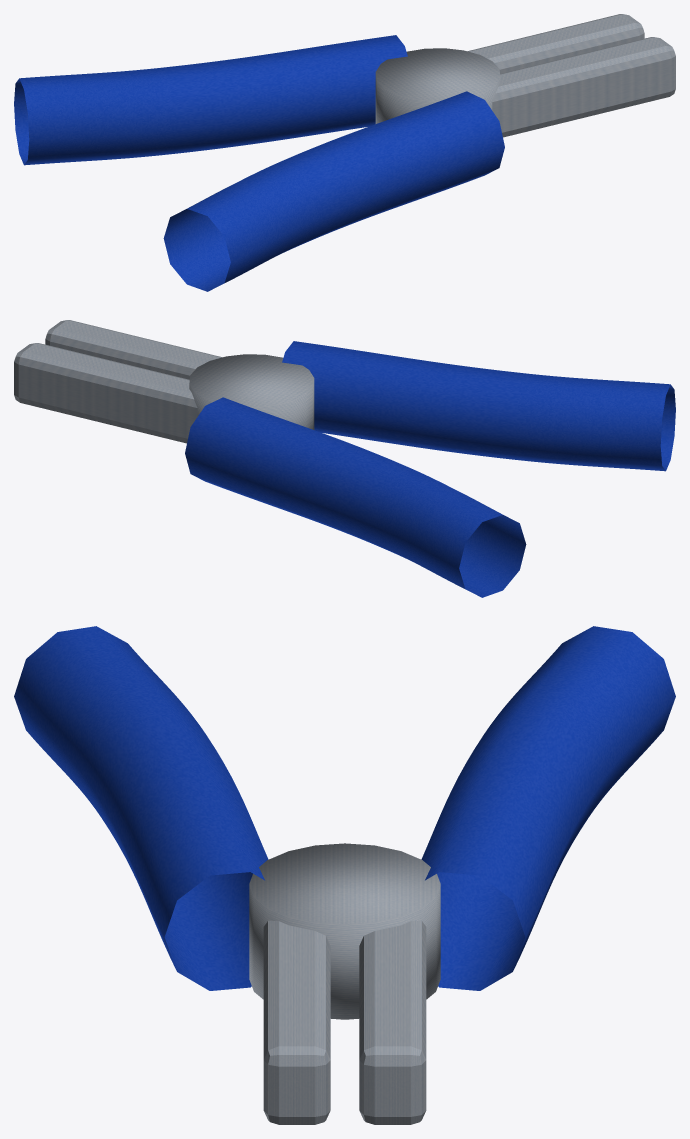
File: WireCutters.obj
3 renders of one model, top to bottom at view 1: azimuth 30°, elevation 25°; view 2: azimuth 150°, elevation 25°; view 3: azimuth 270°, elevation 25°, orthographic. The views are drawn at different scales.
Parts seen in each view (by area): view 1: Handle.001, Handle, Jaw, Pivot, Jaw.001; view 2: Handle, Handle.001, Jaw.001, Pivot, Jaw; view 3: Handle, Handle.001, Pivot, Jaw, Jaw.001.
Part boxes in pixels (x1,y1,x2,y2): Handle.001: [14, 35, 407, 165]; Handle: [163, 91, 504, 291]; Jaw: [492, 37, 675, 137]; Pivot: [375, 48, 500, 123]; Jaw.001: [467, 14, 644, 73]; Handle: [282, 341, 675, 471]; Handle.001: [185, 397, 526, 597]; Jaw.001: [14, 343, 197, 443]; Pivot: [189, 354, 314, 429]; Jaw: [45, 320, 222, 379]; Handle: [14, 626, 268, 990]; Handle.001: [421, 626, 675, 990]; Pivot: [249, 843, 440, 1019]; Jaw: [263, 920, 330, 1124]; Jaw.001: [359, 920, 426, 1124].
Bounding box in the file's own units: 0.5125 × 0.0666 × 0.3458.
